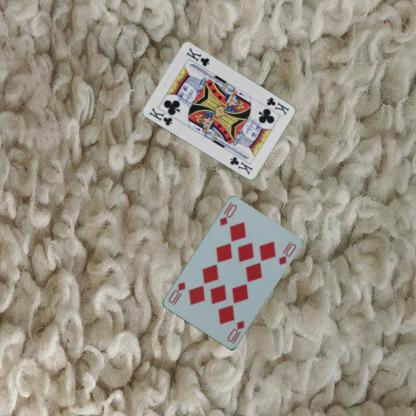10d: (217, 200, 238, 228), (224, 318, 245, 345)
Kc: (264, 94, 291, 117), (147, 105, 174, 127)
